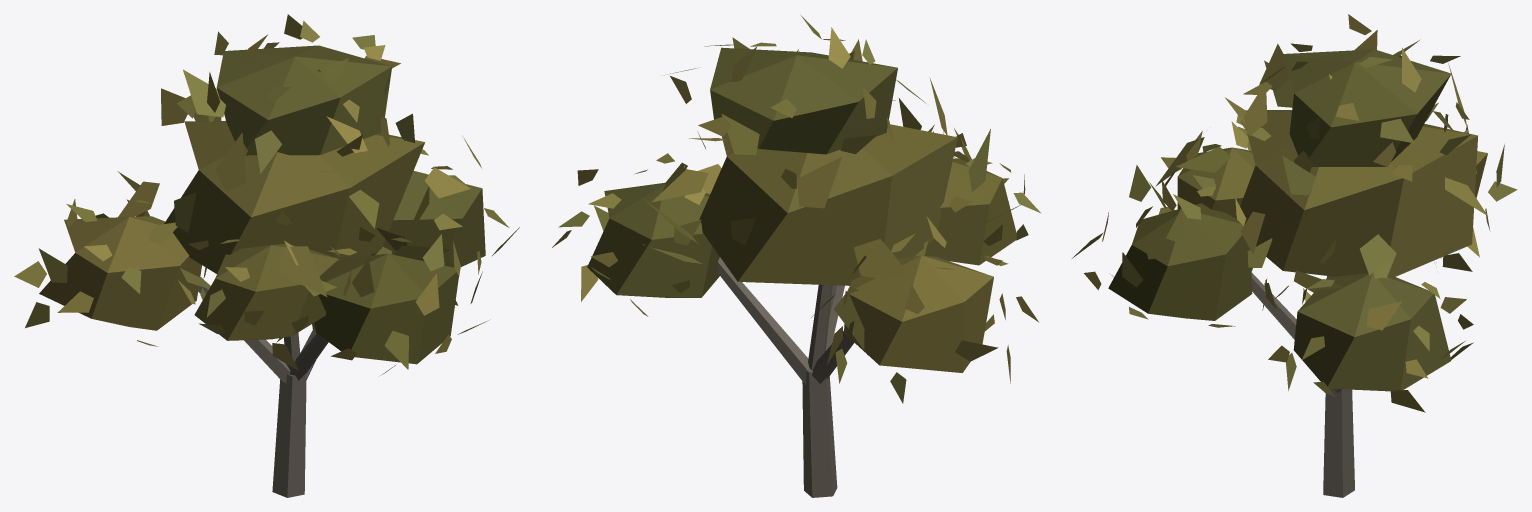
Rendered from hackberry-high.glb.
3 views of the same model, side by side, from view 1: azimuth 30°, elevation 25°; view 2: azimuth 150°, elevation 25°; view 3: azimuth 270°, elevation 25° (orthographic). The views are drawn at different scales.
Visible parts, largest first — view 1: hackberry-high / foliage-core, hackberry-high / foliage, hackberry-high / wood; view 2: hackberry-high / foliage-core, hackberry-high / foliage, hackberry-high / wood; view 3: hackberry-high / foliage-core, hackberry-high / foliage, hackberry-high / wood.
Boxes of the visible parts, bbox=[...] form: hackberry-high / foliage-core: bbox=[39, 45, 485, 364]; hackberry-high / foliage: bbox=[14, 14, 519, 375]; hackberry-high / wood: bbox=[198, 277, 328, 497]; hackberry-high / foliage-core: bbox=[587, 47, 1016, 372]; hackberry-high / foliage: bbox=[552, 15, 1041, 403]; hackberry-high / wood: bbox=[717, 257, 854, 497]; hackberry-high / foliage-core: bbox=[1108, 49, 1487, 391]; hackberry-high / foliage: bbox=[1072, 14, 1517, 412]; hackberry-high / wood: bbox=[1251, 272, 1354, 497].
Size of the model in its own units: 9.12 by 8.85 by 7.65.
